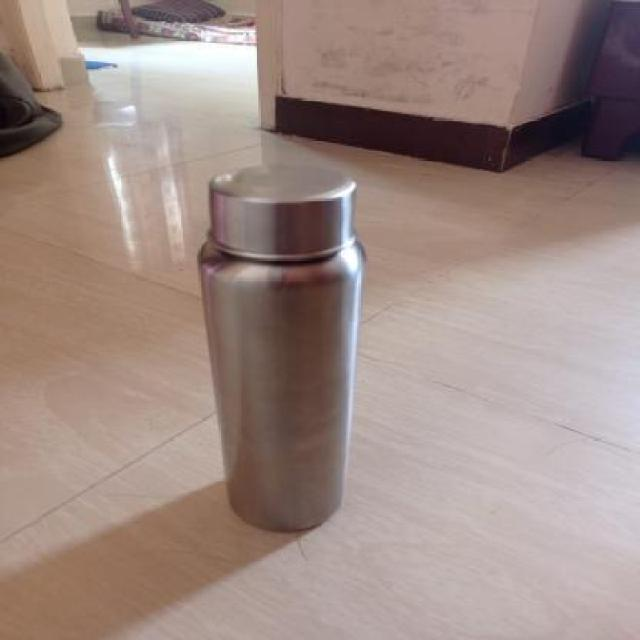bottle: (182, 158, 394, 537)
